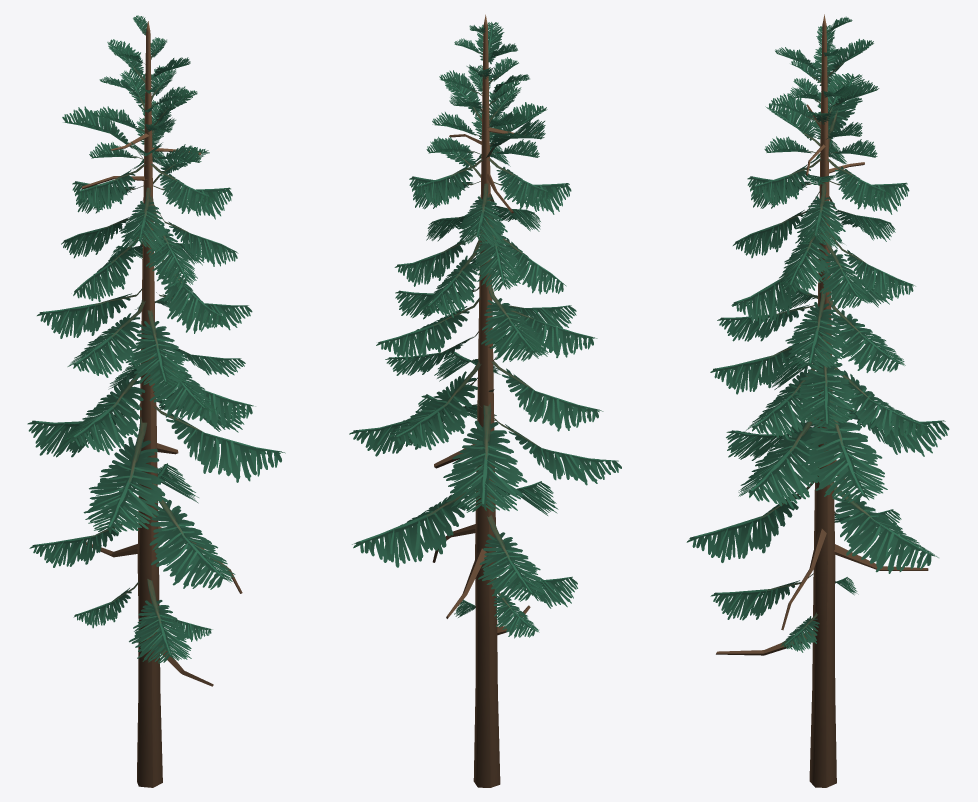
File: Pine_Tree_3H.fbx
3 views of the same model, side by side, from view 1: azimuth 30°, elevation 25°; view 2: azimuth 150°, elevation 25°; view 3: azimuth 270°, elevation 25° (orthographic).
Parts seen in each view (by area): view 1: Pine_Tree_3H; view 2: Pine_Tree_3H; view 3: Pine_Tree_3H.
Part boxes in pixels (box(x1,y1,x2,y2)): Pine_Tree_3H: box(27, 15, 285, 787); Pine_Tree_3H: box(349, 14, 621, 787); Pine_Tree_3H: box(686, 14, 949, 787).
Bounding box in the file's own units: 6.64 × 20.21 × 7.03.
